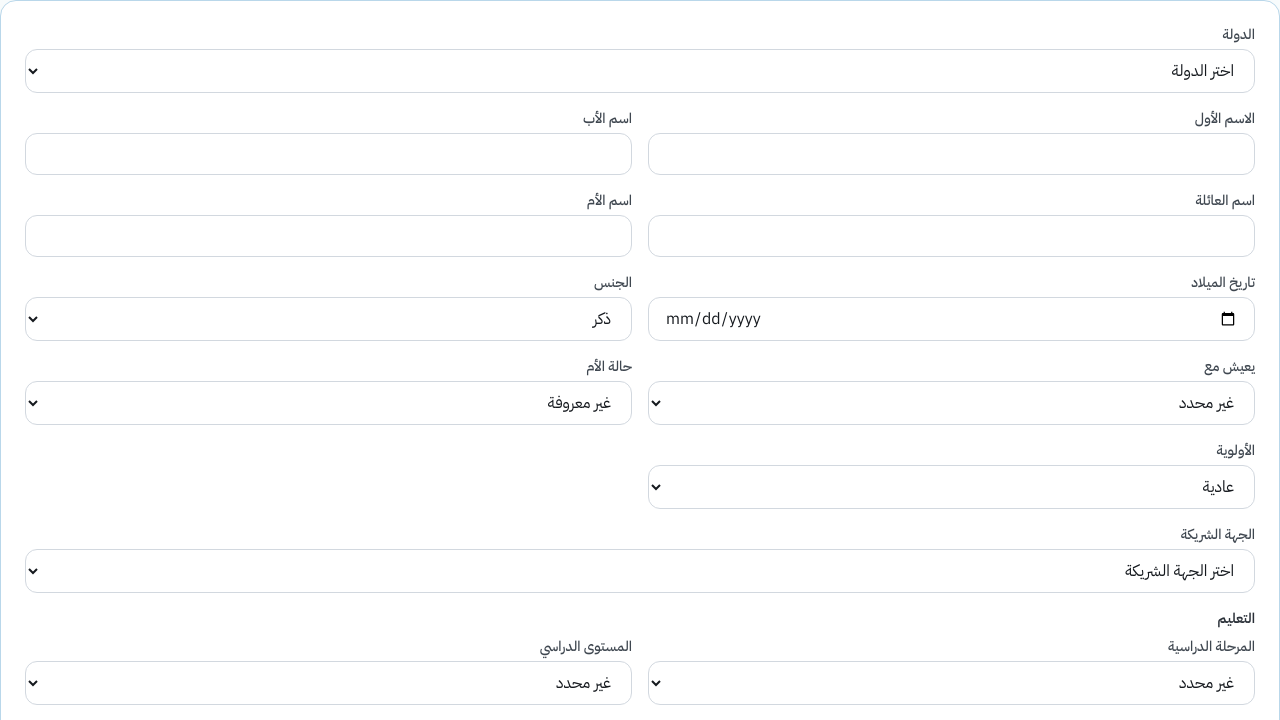
Scenario: NewOrphanForm — GPS 'use my location' › fills latitude/longitude from the browser geolocation
Select "السودان" in the dropdown labelled "الدولة". click: (640, 71)
box: [25,49,1255,93]
(page scrolled)
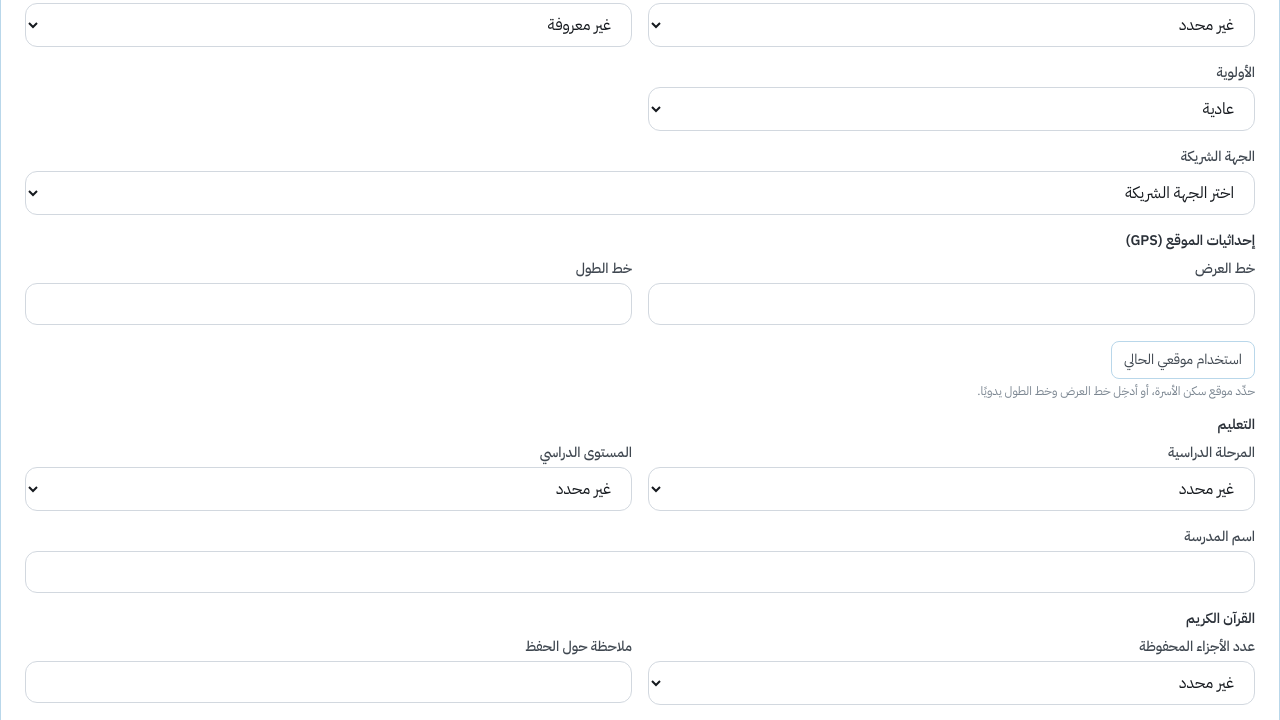
Click the button "استخدام موقعي الحالي". click: (1183, 360)
box: [1111,341,1255,379]
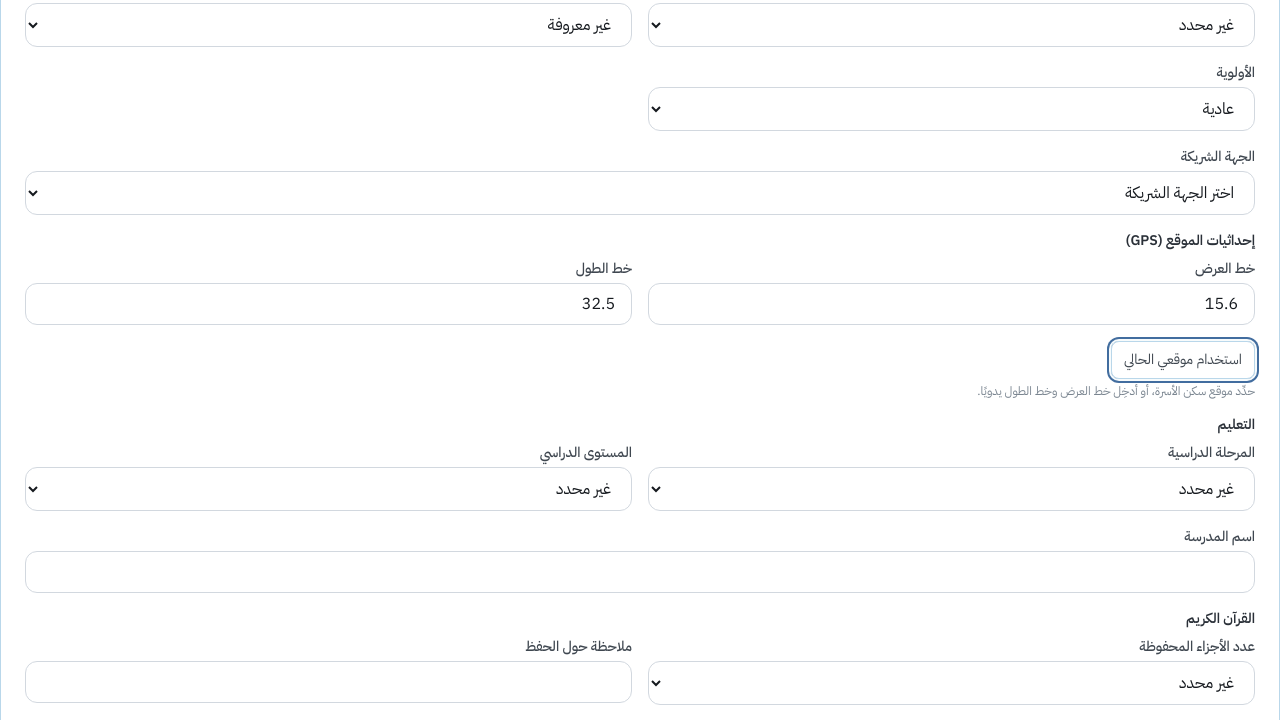
Result: the number field labelled "خط العرض" holds "15.6" at [648,283,1255,325]
Result: the number field labelled "خط الطول" holds "32.5" at [25,283,632,325]
